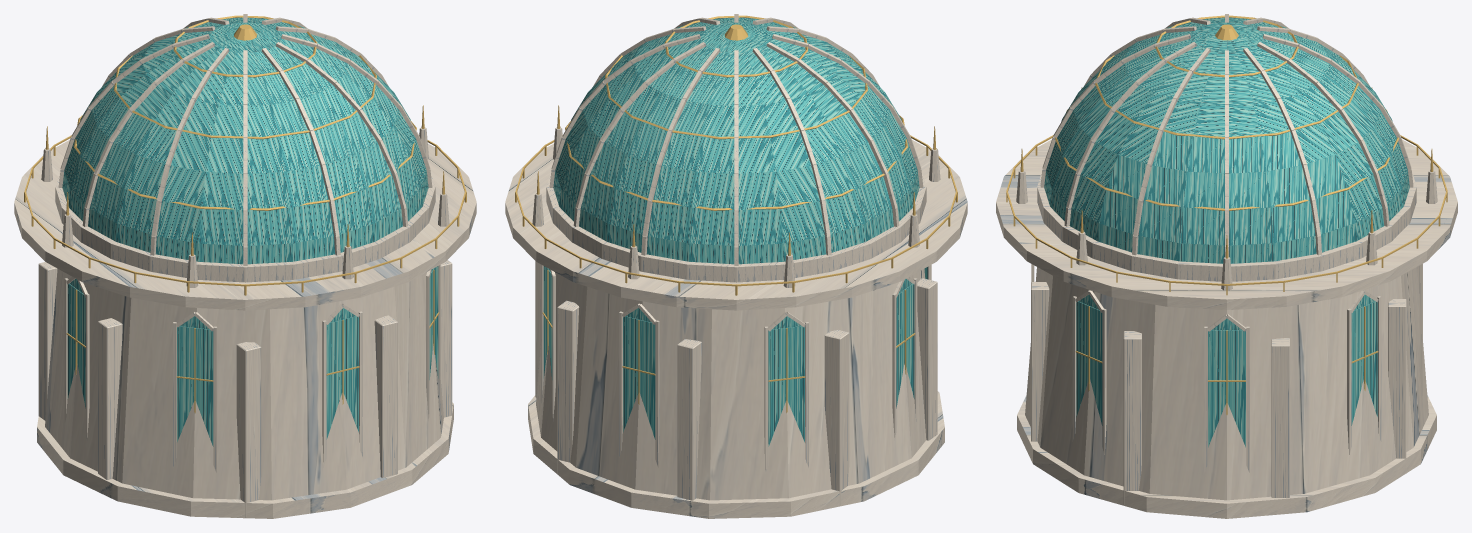
File: observatoryDome.glb
The picture shows the model from 3 angles, left to right: view 1: azimuth 30°, elevation 25°; view 2: azimuth 150°, elevation 25°; view 3: azimuth 270°, elevation 25°; orthographic projection.
Parts seen in each view (by area): view 1: GlassDome, Drum, RingDeck, Foundation, DomeSill, Buttress.7, DrumBay.7.Glass, Buttress.0, Buttress.6, DrumBay.0.Glass, Buttress.5, Buttress.1 (+12 smaller); view 2: GlassDome, Drum, RingDeck, Foundation, DomeSill, Buttress.5, Buttress.4, DrumBay.5.Glass, DrumBay.4.Glass, Buttress.3, Buttress.6, DrumBay.6.Glass (+12 smaller); view 3: GlassDome, Drum, RingDeck, Foundation, DomeSill, DrumBay.2.Glass, Buttress.2, Buttress.1, Buttress.3, DrumBay.1.Glass, DrumBay.3.Glass, Buttress.0 (+9 smaller).
Part boxes in pixels (bbox=[...]): GlassDome: bbox=[62, 17, 428, 264]; Drum: bbox=[45, 269, 443, 500]; RingDeck: bbox=[14, 140, 476, 310]; Foundation: bbox=[37, 402, 453, 518]; DomeSill: bbox=[55, 172, 435, 282]; Buttress.7: bbox=[236, 342, 261, 517]; DrumBay.7.Glass: bbox=[177, 326, 213, 446]; Buttress.0: bbox=[374, 315, 397, 477]; Buttress.6: bbox=[98, 318, 122, 479]; DrumBay.0.Glass: bbox=[326, 316, 358, 439]; Buttress.5: bbox=[38, 262, 57, 420]; Buttress.1: bbox=[440, 260, 452, 429]; GlassDome: bbox=[553, 17, 919, 264]; Drum: bbox=[536, 269, 926, 500]; RingDeck: bbox=[505, 140, 967, 310]; Foundation: bbox=[528, 391, 944, 518]; DomeSill: bbox=[546, 172, 926, 282]; Buttress.5: bbox=[824, 330, 849, 505]; Buttress.4: bbox=[677, 339, 701, 500]; DrumBay.5.Glass: bbox=[768, 326, 804, 446]; DrumBay.4.Glass: bbox=[623, 316, 655, 439]; Buttress.3: bbox=[557, 300, 579, 473]; Buttress.6: bbox=[917, 278, 937, 440]; DrumBay.6.Glass: bbox=[896, 283, 914, 408]; GlassDome: bbox=[1044, 17, 1409, 263]; Drum: bbox=[1025, 267, 1428, 500]; RingDeck: bbox=[996, 139, 1457, 309]; Foundation: bbox=[1017, 395, 1436, 518]; DomeSill: bbox=[1037, 172, 1416, 281]; DrumBay.2.Glass: bbox=[1208, 330, 1245, 447]; Buttress.2: bbox=[1271, 338, 1289, 497]; Buttress.1: bbox=[1123, 331, 1141, 505]; Buttress.3: bbox=[1388, 299, 1406, 472]; DrumBay.1.Glass: bbox=[1076, 301, 1102, 425]; DrumBay.3.Glass: bbox=[1351, 301, 1377, 425]; Buttress.0: bbox=[1031, 282, 1049, 441].
Size of what is drawn, in the model's own units: 55 by 53 by 55.
Materials: 4 (3 with a texture image).
